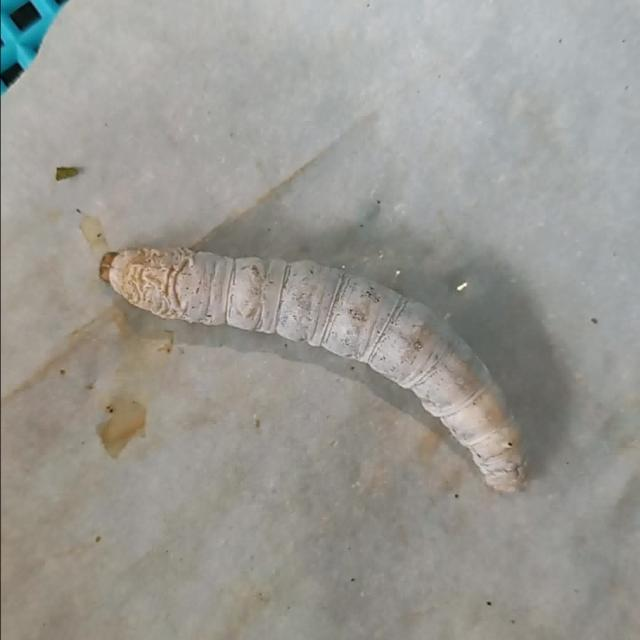Grasserie: (93, 230, 544, 518)
